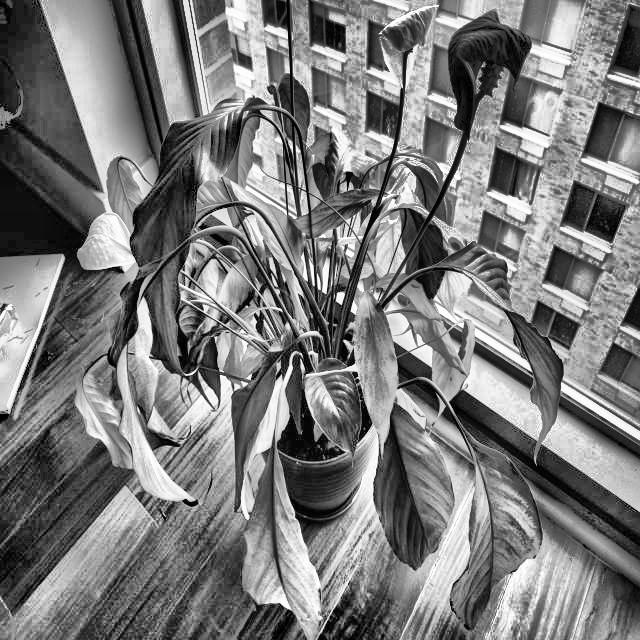plants: (72, 23, 585, 626), (345, 186, 478, 420), (237, 356, 323, 626), (443, 21, 533, 149)
